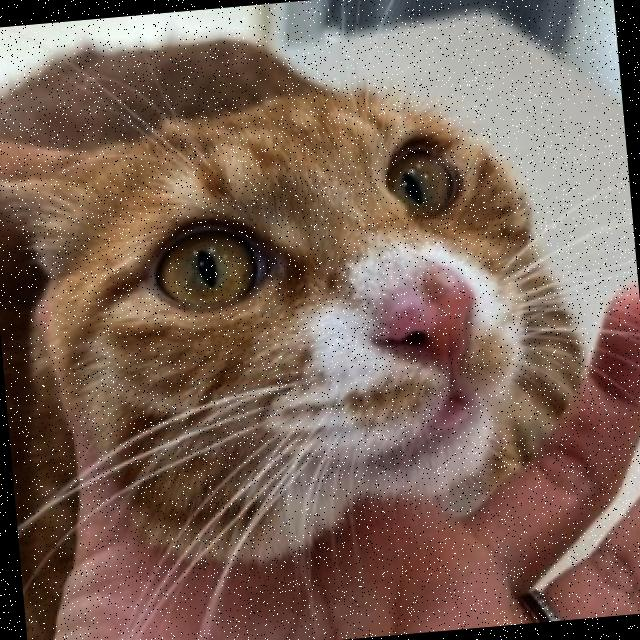Happy: (109, 115, 566, 512)
